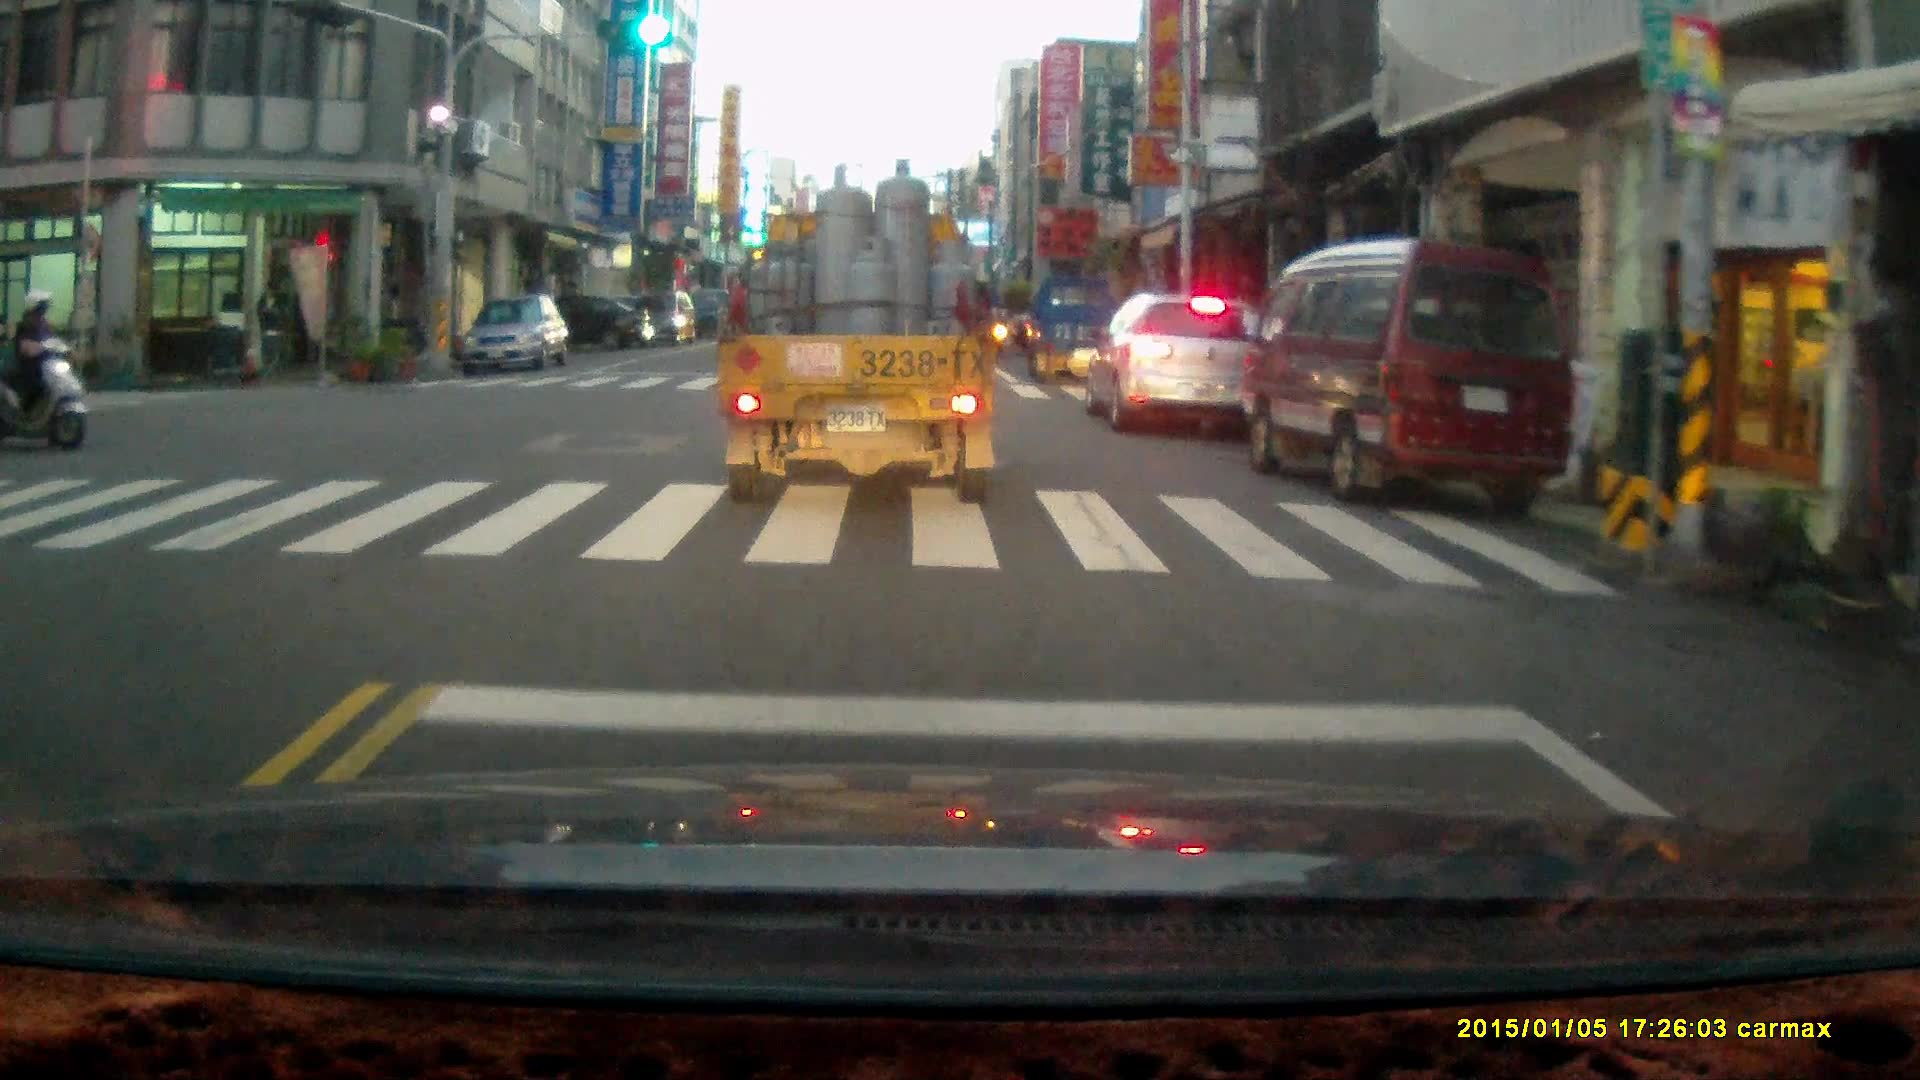pedestrian: (253, 275, 287, 384)
rider: (2, 288, 87, 450)
vehicle: (721, 162, 998, 512), (1249, 242, 1576, 517), (1083, 289, 1277, 447), (1030, 277, 1135, 394), (507, 296, 649, 360), (464, 299, 574, 377), (610, 292, 698, 345)
